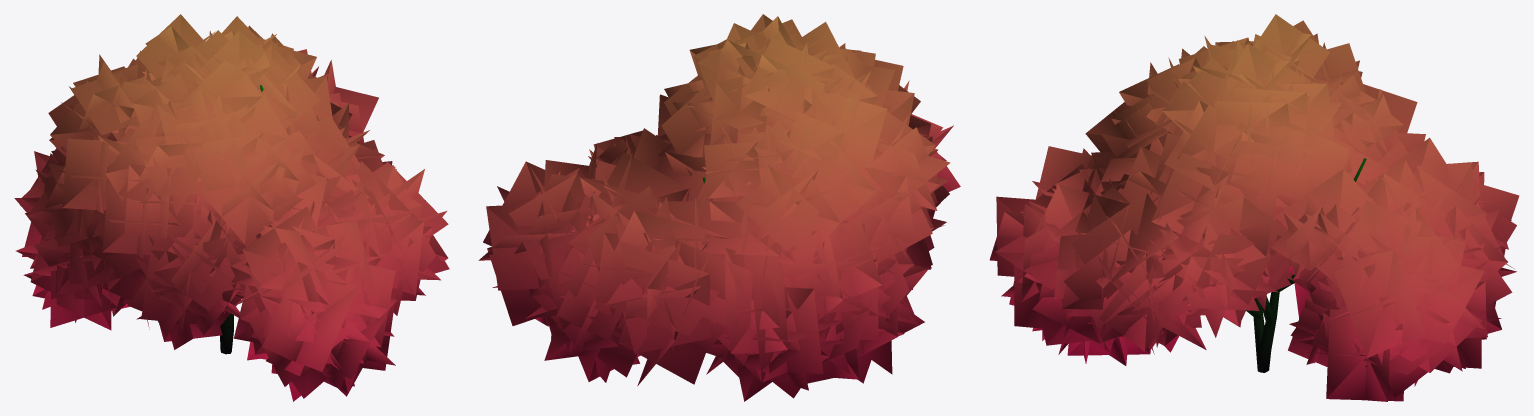
File: TSI_Springleaf_Shrub_01A.fbx
The picture shows the model from 3 angles, left to right: view 1: azimuth 30°, elevation 25°; view 2: azimuth 150°, elevation 25°; view 3: azimuth 270°, elevation 25°; orthographic projection.
Parts seen in each view (by area): view 1: TSI_Springleaf_Shrub_01A_LOD0; view 2: TSI_Springleaf_Shrub_01A_LOD0; view 3: TSI_Springleaf_Shrub_01A_LOD0.
Boxes of the visible parts, box(x1,y1,x2,y2) form: TSI_Springleaf_Shrub_01A_LOD0: box(14, 14, 449, 401); TSI_Springleaf_Shrub_01A_LOD0: box(478, 14, 960, 401); TSI_Springleaf_Shrub_01A_LOD0: box(989, 14, 1519, 401).
Bounding box in the file's own units: 667 × 552 × 796.
